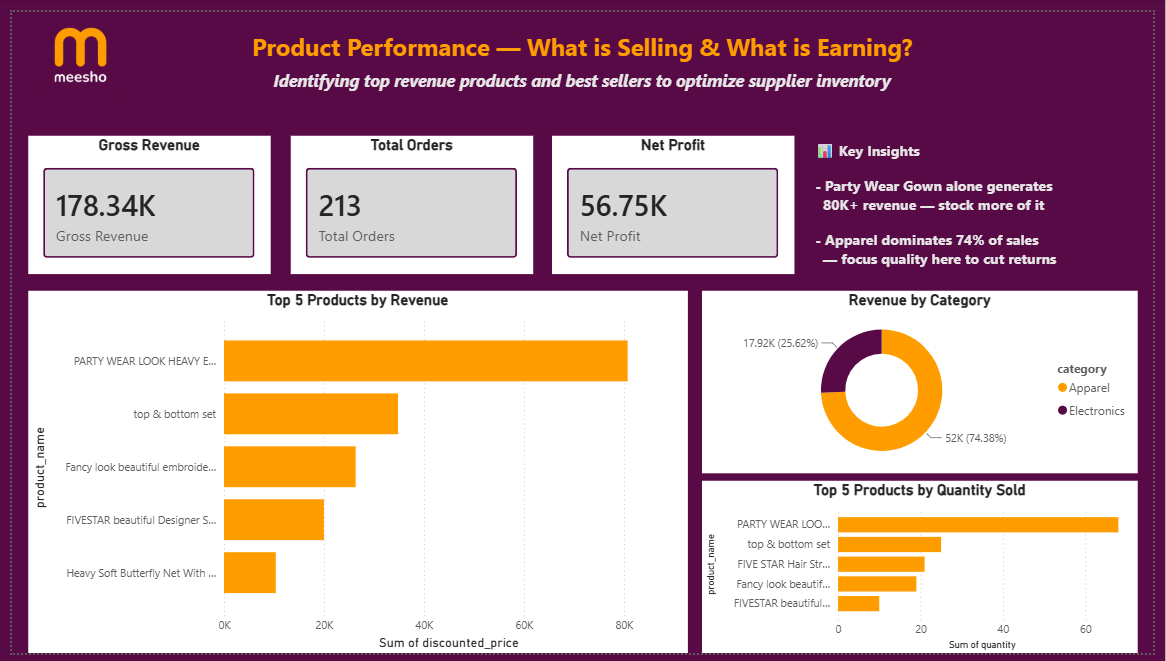

What the dashboard file says about the page in this screenshot:
{"tool":"powerbi","page":{"name":"Product Performance","canvas":[1280,720],"ordinal":2},"visuals":[{"type":"textbox","box":[260.7,15.1,757.5,53.5],"z":0},{"type":"image","box":[0,0,127.6,91.9],"z":1000},{"type":"textbox","box":[277.2,59,725.9,42.5],"z":2000},{"type":"cardVisual","title":"Gross Revenue","fields":{"Data":["orders.Gross Revenue"]},"box":[17.8,138.6,271.7,155.1],"z":3000},{"type":"cardVisual","title":"Total Orders","fields":{"Data":["orders.Total Orders"]},"box":[312.9,138.6,271.7,155.1],"z":4000},{"type":"cardVisual","title":"Net Profit","fields":{"Data":["orders.Net Profit"]},"box":[605.1,138.6,271.7,155.1],"z":5000},{"type":"clusteredBarChart","title":"Top 5 Products by Revenue","fields":{"Category":["order_items.product_name"],"Y":["Sum(order_items.discounted_price)"]},"box":[17.8,312.9,739.6,407.5],"z":6000},{"type":"donutChart","title":"Revenue by Category","fields":{"Category":["products.category"],"Y":["Sum(products.avg_discounted_price)"]},"box":[773.9,312.9,488.5,204.5],"z":7000},{"type":"textbox","box":[896.1,138.6,352.7,155.1],"z":8000},{"type":"clusteredBarChart","title":"Top 5 Products by Quantity Sold","fields":{"Category":["order_items.product_name"],"Y":["Sum(order_items.quantity)"]},"box":[773.9,525.6,488.5,194.9],"z":9000}]}

Visuals, with their boxes in screenshot pixels (x1, y1, x2, y2), scaled from the page's 1280x720 canvas onto the 1166x661 screenshot:
textbox: {"x1": 237, "y1": 14, "x2": 928, "y2": 63}
image: {"x1": 0, "y1": 0, "x2": 116, "y2": 84}
textbox: {"x1": 253, "y1": 54, "x2": 914, "y2": 93}
"Gross Revenue" cardVisual: {"x1": 16, "y1": 127, "x2": 264, "y2": 270}
"Total Orders" cardVisual: {"x1": 285, "y1": 127, "x2": 533, "y2": 270}
"Net Profit" cardVisual: {"x1": 551, "y1": 127, "x2": 799, "y2": 270}
"Top 5 Products by Revenue" clusteredBarChart: {"x1": 16, "y1": 287, "x2": 690, "y2": 660}
"Revenue by Category" donutChart: {"x1": 705, "y1": 287, "x2": 1150, "y2": 475}
textbox: {"x1": 816, "y1": 127, "x2": 1138, "y2": 270}
"Top 5 Products by Quantity Sold" clusteredBarChart: {"x1": 705, "y1": 483, "x2": 1150, "y2": 660}
